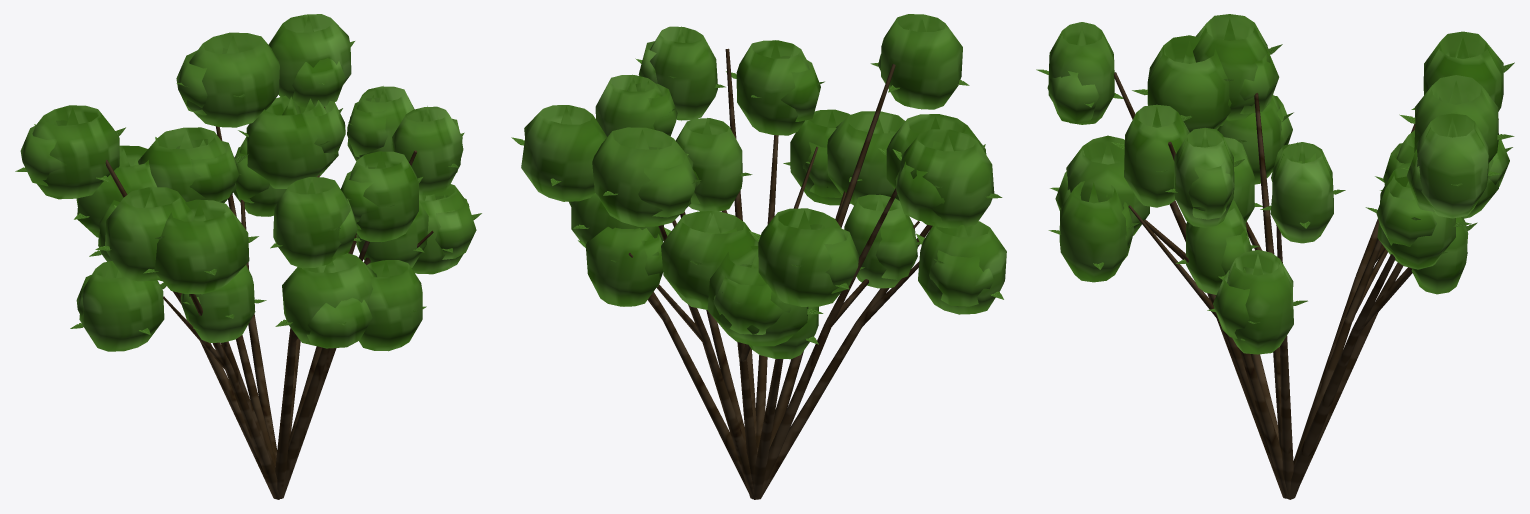
The model's file is filbert_big02-lod0.glb.
3 views of the same model, side by side, from view 1: azimuth 30°, elevation 25°; view 2: azimuth 150°, elevation 25°; view 3: azimuth 270°, elevation 25° (orthographic). The views are drawn at different scales.
Visible parts, largest first — view 1: TZ_filbert_shrub_Batch_00_LOD0, TZ_filbert_shrub_Batch_02_LOD0, TZ_filbert_shrub_Batch_01_LOD0; view 2: TZ_filbert_shrub_Batch_00_LOD0, TZ_filbert_shrub_Batch_02_LOD0, TZ_filbert_shrub_Batch_01_LOD0; view 3: TZ_filbert_shrub_Batch_00_LOD0, TZ_filbert_shrub_Batch_02_LOD0, TZ_filbert_shrub_Batch_01_LOD0.
Boxes of the visible parts, left/top/right/bottom form: TZ_filbert_shrub_Batch_00_LOD0: left=20, top=14, right=476, bottom=351; TZ_filbert_shrub_Batch_02_LOD0: left=105, top=107, right=433, bottom=499; TZ_filbert_shrub_Batch_01_LOD0: left=15, top=41, right=481, bottom=334; TZ_filbert_shrub_Batch_00_LOD0: left=521, top=14, right=1006, bottom=359; TZ_filbert_shrub_Batch_02_LOD0: left=628, top=48, right=932, bottom=499; TZ_filbert_shrub_Batch_01_LOD0: left=511, top=58, right=1003, bottom=344; TZ_filbert_shrub_Batch_00_LOD0: left=1047, top=14, right=1509, bottom=354; TZ_filbert_shrub_Batch_02_LOD0: left=1113, top=72, right=1415, bottom=499; TZ_filbert_shrub_Batch_01_LOD0: left=1036, top=44, right=1514, bottom=323.
Size of the model in its own units: 2.59 by 2.45 by 2.42.
3 materials, 3 textured.
